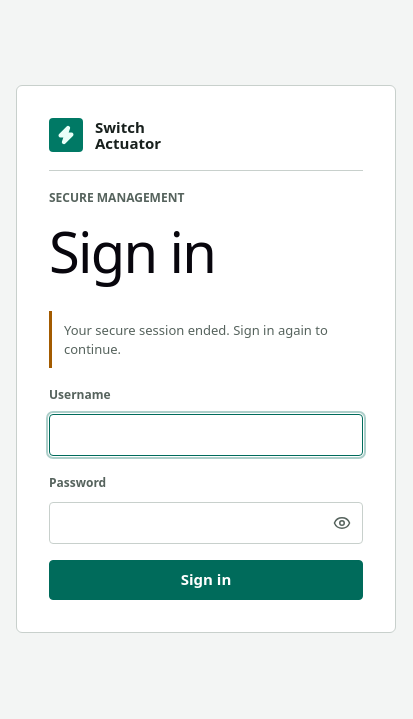
LoginPage › shows recovery-oriented rate-limit and expired-session messages
Expected: the message shows "secure session ended", [64,321,328,358]
Type "unknown" into the field labelled "Username".
click(206, 435); type("unknown")  # box [49,414,363,456]
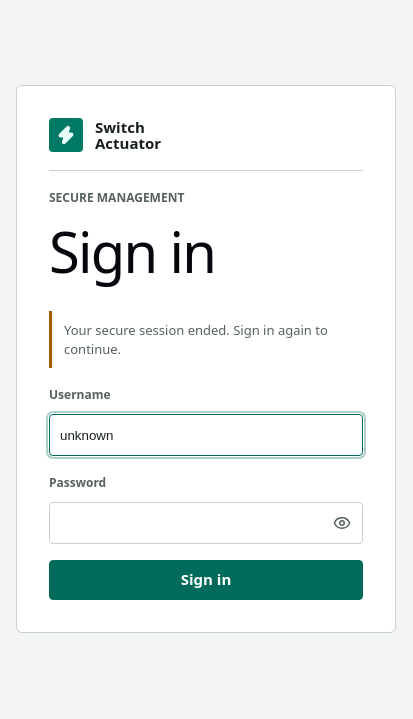
Type "not-the-password" into the password field labelled "Password".
click(206, 523); type("not-the-password")  # box [49,502,363,544]
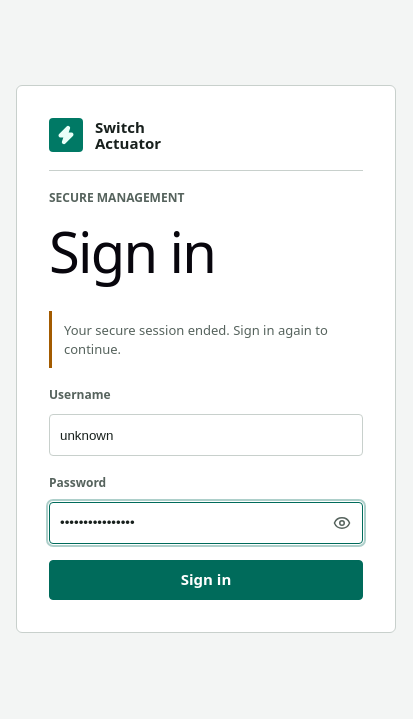
Click the button "Sign in".
click(206, 580)  # box [49,560,363,600]
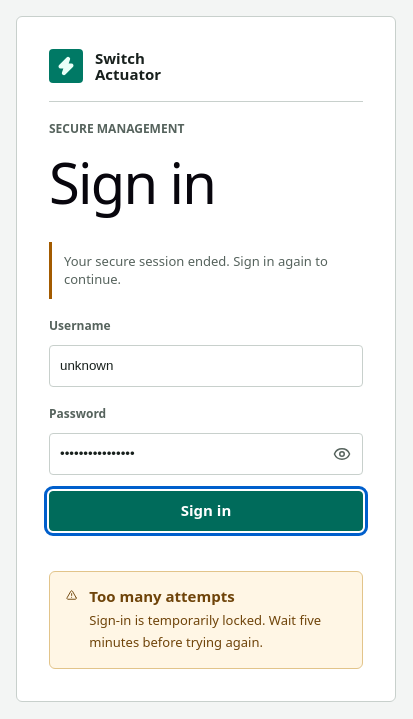
Expected: the message that starts with "Too many attempts" does not show "unknown", [49,571,363,669]
Result: the message that starts with "Too many attempts" is shown at [89,586,235,606]
